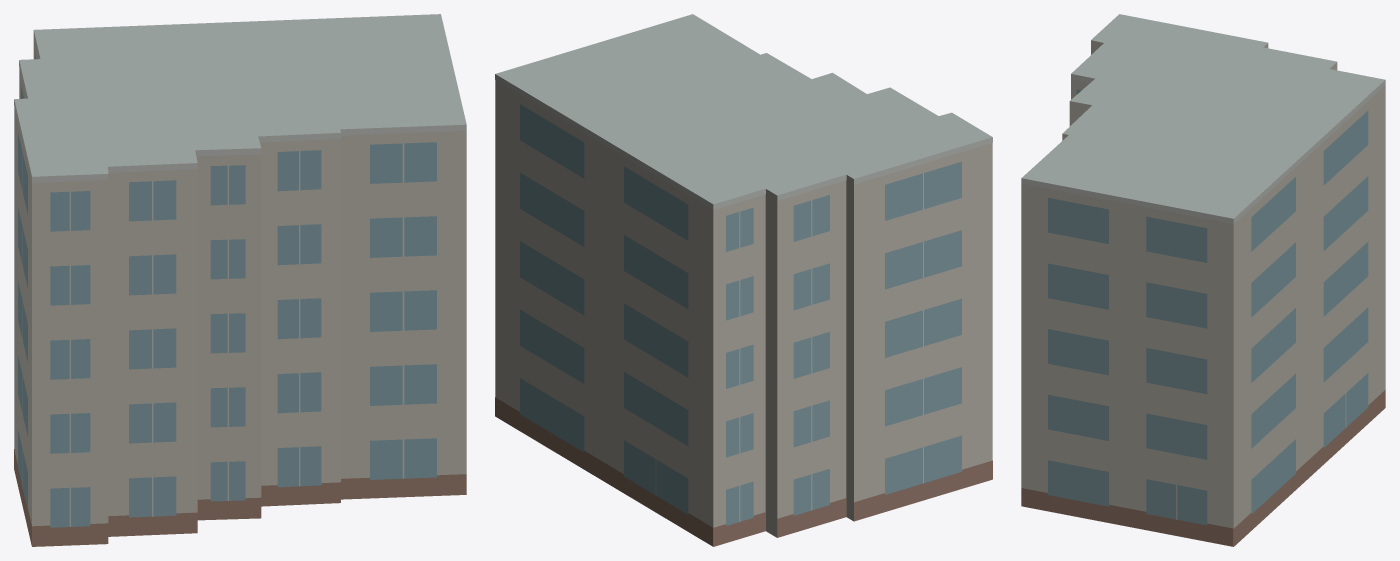
The model's file is survey-upis-32927490.glb.
3 views of the same model, side by side, from view 1: azimuth 30°, elevation 25°; view 2: azimuth 150°, elevation 25°; view 3: azimuth 270°, elevation 25° (orthographic). The views are drawn at different scales.
Visible parts, largest first — view 1: survey-upis-32927490.tmp; view 2: survey-upis-32927490.tmp; view 3: survey-upis-32927490.tmp.
Part boxes in pixels (box(x1,y1,x2,y2)): survey-upis-32927490.tmp: box(14, 14, 466, 546); survey-upis-32927490.tmp: box(495, 14, 992, 546); survey-upis-32927490.tmp: box(1021, 14, 1385, 546).
Bounding box in the file's own units: 19.82 × 14.8 × 14.9.
